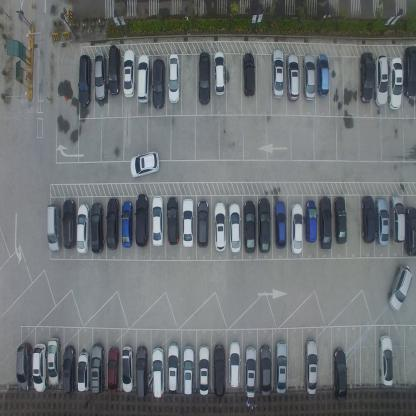car: (387, 265, 413, 313), (130, 149, 160, 178), (134, 193, 149, 248), (373, 52, 388, 107), (389, 193, 405, 244), (46, 202, 62, 253), (332, 348, 347, 402), (257, 198, 271, 254), (151, 348, 166, 400), (78, 53, 92, 108), (318, 195, 332, 250), (166, 195, 181, 246), (47, 335, 62, 386), (32, 342, 47, 393), (76, 201, 90, 255), (258, 344, 272, 398), (16, 342, 31, 392), (167, 342, 181, 395), (108, 43, 122, 96), (379, 334, 393, 387), (135, 345, 148, 401), (360, 52, 374, 104), (388, 57, 402, 109), (403, 44, 416, 100), (90, 202, 104, 254), (304, 339, 317, 395), (243, 199, 256, 254), (197, 51, 210, 106), (182, 345, 196, 396), (213, 201, 227, 252), (375, 195, 389, 246), (62, 198, 76, 249), (90, 342, 104, 393), (273, 200, 287, 250), (62, 344, 76, 394), (151, 195, 164, 248), (228, 201, 241, 254), (244, 345, 257, 398), (286, 53, 300, 102), (361, 195, 375, 244), (213, 344, 226, 396), (167, 53, 180, 105), (152, 58, 165, 110), (137, 52, 150, 104), (290, 202, 303, 254), (106, 197, 119, 249), (333, 196, 347, 244), (122, 47, 135, 98), (94, 50, 107, 101), (271, 47, 284, 98), (275, 340, 287, 395), (242, 52, 256, 98), (302, 54, 316, 100), (198, 344, 210, 397), (196, 199, 209, 247), (121, 346, 134, 394), (404, 206, 416, 256), (182, 198, 194, 247), (212, 51, 225, 96), (304, 199, 317, 244), (121, 200, 133, 248), (316, 53, 329, 97), (77, 349, 90, 393), (228, 341, 240, 388), (107, 347, 119, 394)
